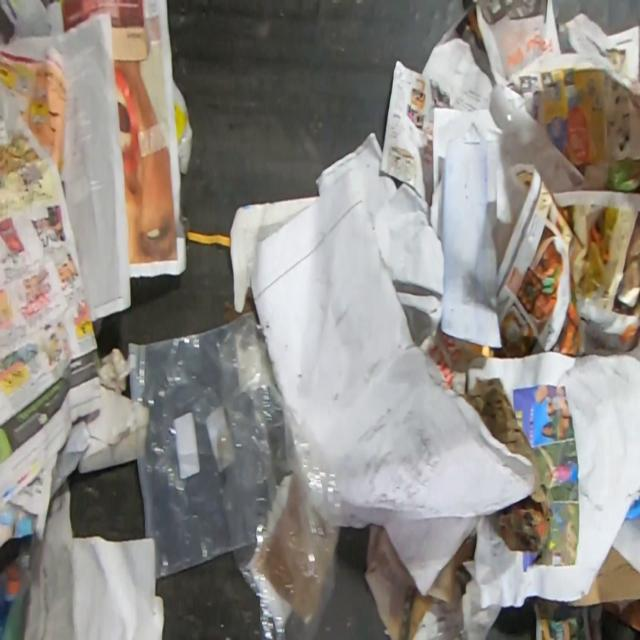cardboard: (75, 383, 135, 474), (564, 545, 640, 606), (172, 73, 195, 175)
soft_plastic: (126, 307, 346, 640)
